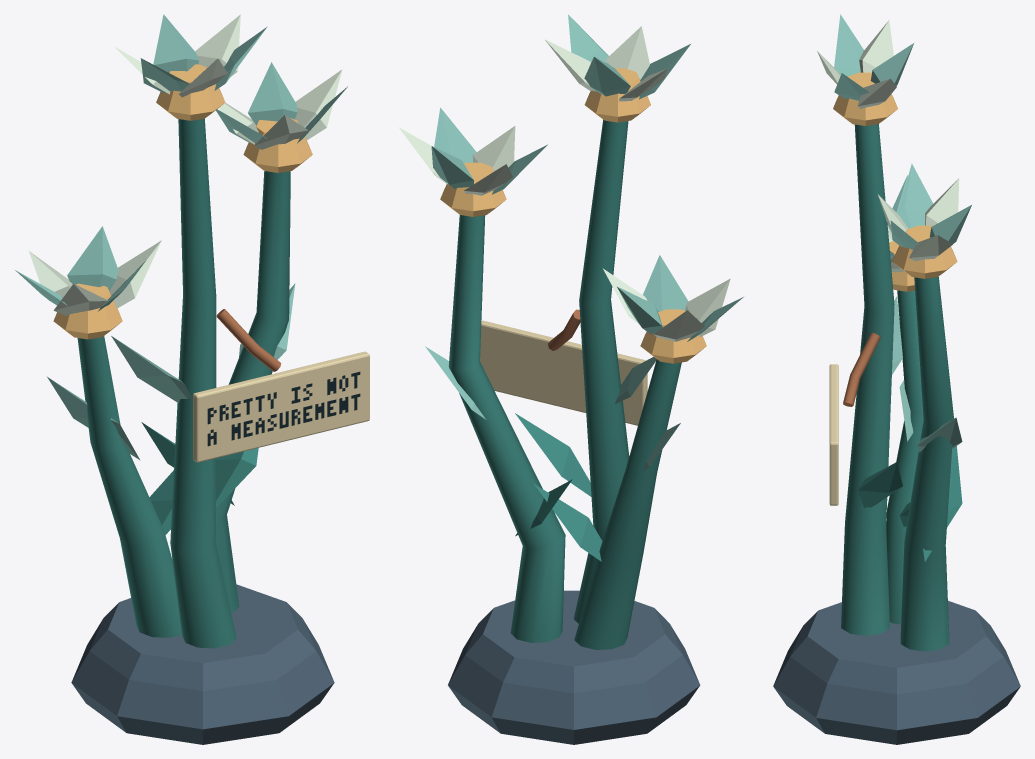
3 views of the same model, side by side, from view 1: azimuth 30°, elevation 25°; view 2: azimuth 150°, elevation 25°; view 3: azimuth 270°, elevation 25° (orthographic). The views are drawn at different scales.
Visible parts, largest first — view 1: PR042 enamel and hardware; view 2: PR042 enamel and hardware; view 3: PR042 enamel and hardware.
Part boxes in pixels (x1,y1,x2,y2): PR042 enamel and hardware: [15, 14, 369, 744]; PR042 enamel and hardware: [398, 14, 743, 744]; PR042 enamel and hardware: [773, 14, 1020, 744].
Bounding box in the file's own units: 0.9068 × 1.71 × 0.6.
